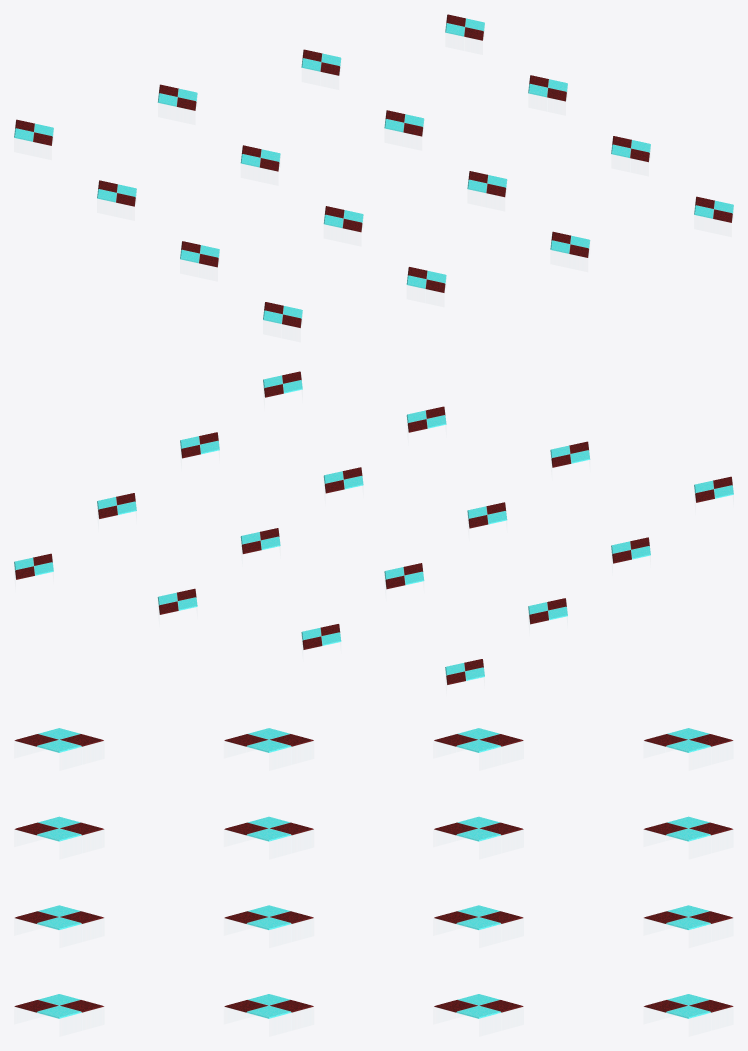
The picture shows the model from 3 angles, top to bottom: view 1: azimuth 30°, elevation 25°; view 2: azimuth 150°, elevation 25°; view 3: azimuth 270°, elevation 25°; orthographic projection. The views are drawn at different scales.
Parts seen in each view (by area): view 1: SM_Fire_Jet_Floor_Trap_Door_16_01_LOD0; view 2: SM_Fire_Jet_Floor_Trap_Door_16_01_LOD0; view 3: SM_Fire_Jet_Floor_Trap_Door_16_01_LOD0.
Boxes of the visible parts, x1,y1,x2,y2 form: SM_Fire_Jet_Floor_Trap_Door_16_01_LOD0: (14,14,733,328); SM_Fire_Jet_Floor_Trap_Door_16_01_LOD0: (14,371,733,684); SM_Fire_Jet_Floor_Trap_Door_16_01_LOD0: (14,728,733,1018).
Size of the model in its own units: 3.28 by 0.1 by 3.43.
Materials: 1 (1 with a texture image).
